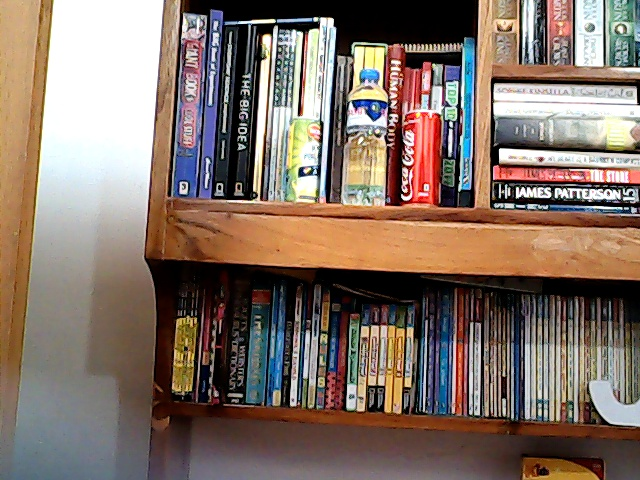Cola: (398, 108, 447, 213)
Pine Juice: (273, 111, 327, 214)
Summit Water: (341, 59, 388, 206)
